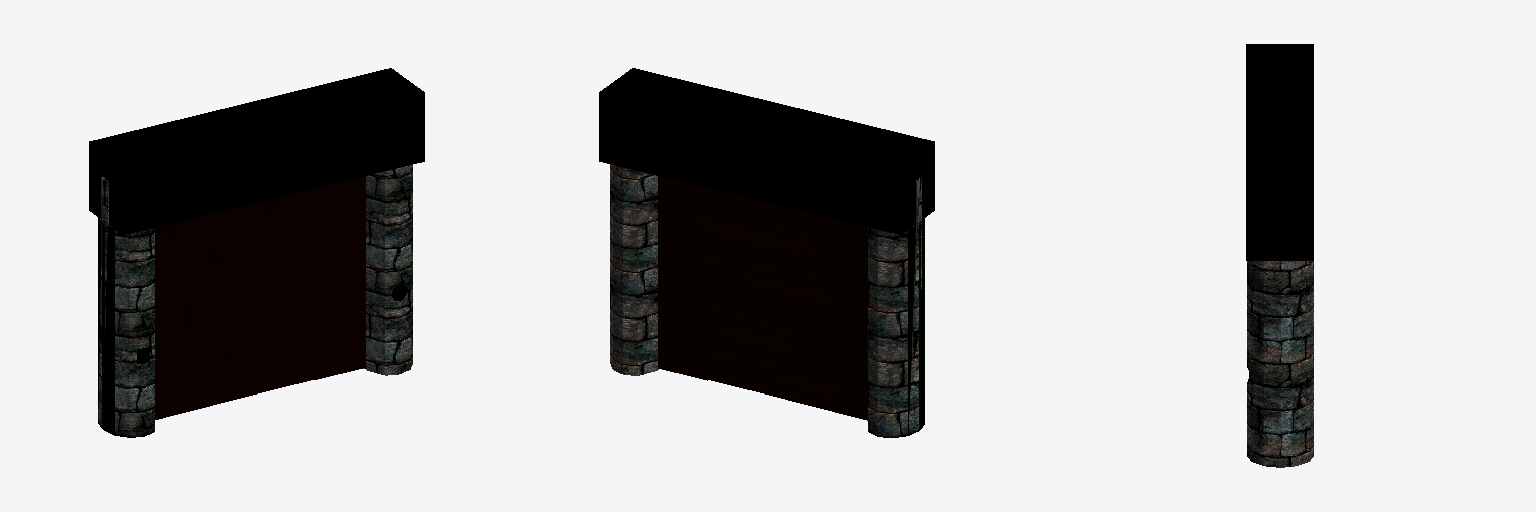
3 renders of one model, left to right at view 1: azimuth 30°, elevation 25°; view 2: azimuth 150°, elevation 25°; view 3: azimuth 270°, elevation 25°, orthographic.
Parts seen in each view (by area): view 1: big_doorway_with_key_holes, big_door_left, big_door_right; view 2: big_doorway_with_key_holes, big_door_left, big_door_right; view 3: big_doorway_with_key_holes.
Boxes of the visible parts, x1,y1,x2,y2 form: big_doorway_with_key_holes: [89, 68, 424, 437]; big_door_left: [102, 203, 314, 430]; big_door_right: [201, 176, 365, 379]; big_doorway_with_key_holes: [599, 68, 934, 437]; big_door_left: [708, 203, 921, 430]; big_door_right: [658, 176, 821, 380]; big_doorway_with_key_holes: [1246, 44, 1313, 467].
Bounding box in the file's own units: 325 × 282 × 63.01.
Materials: 4 (1 with a texture image).